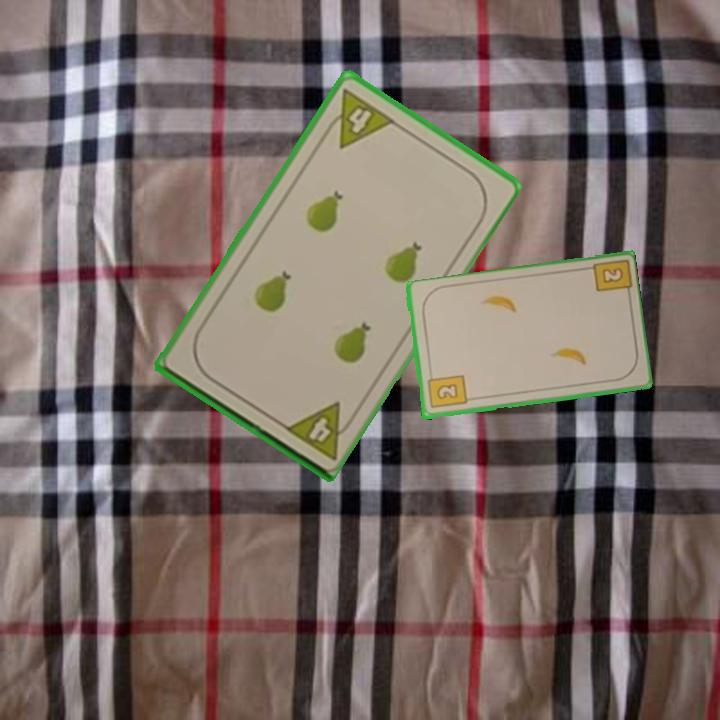2b: (424, 369, 469, 411), (598, 264, 626, 286)
4p: (318, 85, 398, 151), (280, 398, 359, 463)
